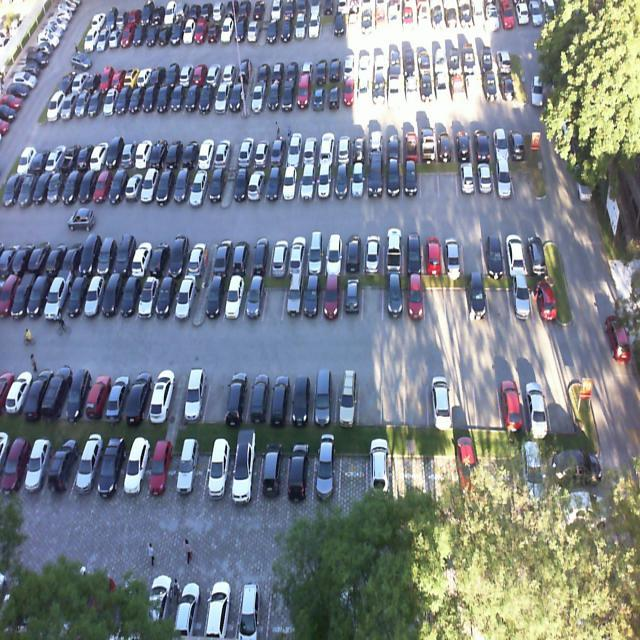space-empty: (94, 445, 132, 502), (123, 442, 158, 502), (71, 446, 106, 501), (148, 444, 182, 500), (43, 445, 78, 499), (231, 451, 264, 504), (545, 370, 576, 426), (499, 373, 528, 432), (175, 445, 208, 496), (312, 451, 342, 507), (223, 370, 254, 424), (21, 446, 55, 494), (259, 448, 290, 500), (523, 371, 550, 428), (64, 367, 93, 420), (476, 372, 502, 429), (117, 271, 146, 322), (222, 272, 249, 326), (83, 371, 112, 421), (288, 449, 314, 504), (106, 371, 134, 422), (452, 374, 479, 426), (136, 267, 162, 320), (428, 375, 454, 428), (127, 370, 154, 420), (312, 372, 336, 428), (268, 373, 294, 424), (154, 274, 180, 324), (203, 370, 229, 420), (246, 372, 272, 422), (262, 270, 286, 324), (530, 270, 557, 318), (148, 374, 175, 422), (359, 371, 382, 426), (174, 272, 198, 324), (382, 371, 405, 424), (101, 270, 125, 320), (241, 275, 265, 325), (335, 373, 359, 423), (290, 372, 313, 424), (405, 374, 428, 426), (486, 273, 511, 320), (483, 227, 507, 275), (181, 373, 206, 418), (443, 226, 466, 273), (205, 273, 225, 327), (130, 236, 156, 276), (113, 238, 140, 276), (509, 276, 532, 320), (303, 276, 324, 324), (155, 165, 178, 208), (525, 229, 548, 272), (444, 277, 467, 320), (467, 275, 488, 322), (148, 237, 172, 278), (188, 164, 211, 206), (363, 276, 384, 322), (282, 276, 302, 324), (167, 238, 192, 276), (505, 227, 526, 272), (322, 277, 343, 322), (425, 229, 445, 276), (188, 239, 212, 278), (139, 165, 162, 205), (511, 156, 534, 196), (287, 234, 310, 274), (404, 226, 424, 272), (404, 274, 424, 320), (426, 276, 446, 322), (172, 165, 193, 208), (382, 231, 404, 272), (229, 238, 252, 277), (204, 166, 226, 206), (464, 228, 484, 272), (231, 164, 252, 205), (213, 239, 236, 276), (384, 276, 402, 322), (307, 234, 328, 273), (345, 231, 364, 274), (268, 236, 290, 272), (251, 235, 272, 272), (345, 275, 362, 320), (324, 235, 344, 273), (364, 235, 383, 273), (458, 162, 478, 198), (478, 158, 496, 198), (299, 166, 317, 205), (494, 160, 514, 195), (267, 166, 284, 207), (283, 164, 300, 205), (250, 166, 268, 204), (368, 162, 386, 200), (422, 163, 440, 198), (333, 165, 350, 202), (388, 162, 404, 200), (403, 163, 420, 198), (440, 162, 458, 195), (316, 166, 332, 200), (351, 164, 367, 198)
space-occupied: (204, 448, 238, 498)
